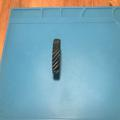gear: (51, 37, 63, 82)
